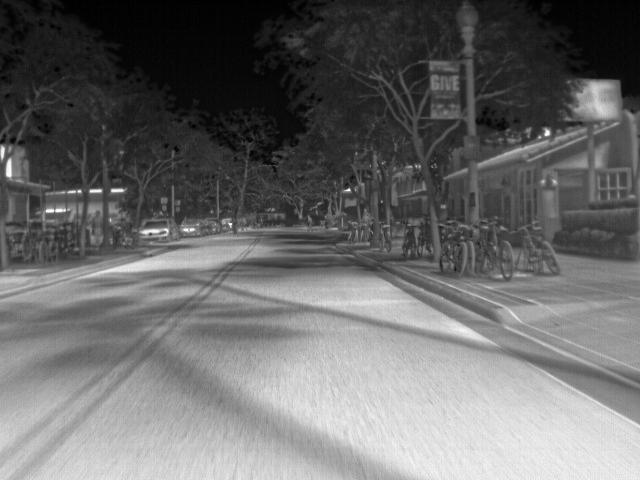car: (136, 217, 179, 243), (177, 217, 203, 238), (202, 218, 221, 234), (221, 218, 239, 230)
person: (89, 208, 104, 250), (117, 214, 134, 235), (368, 219, 376, 244), (305, 214, 315, 233), (361, 206, 371, 220)
